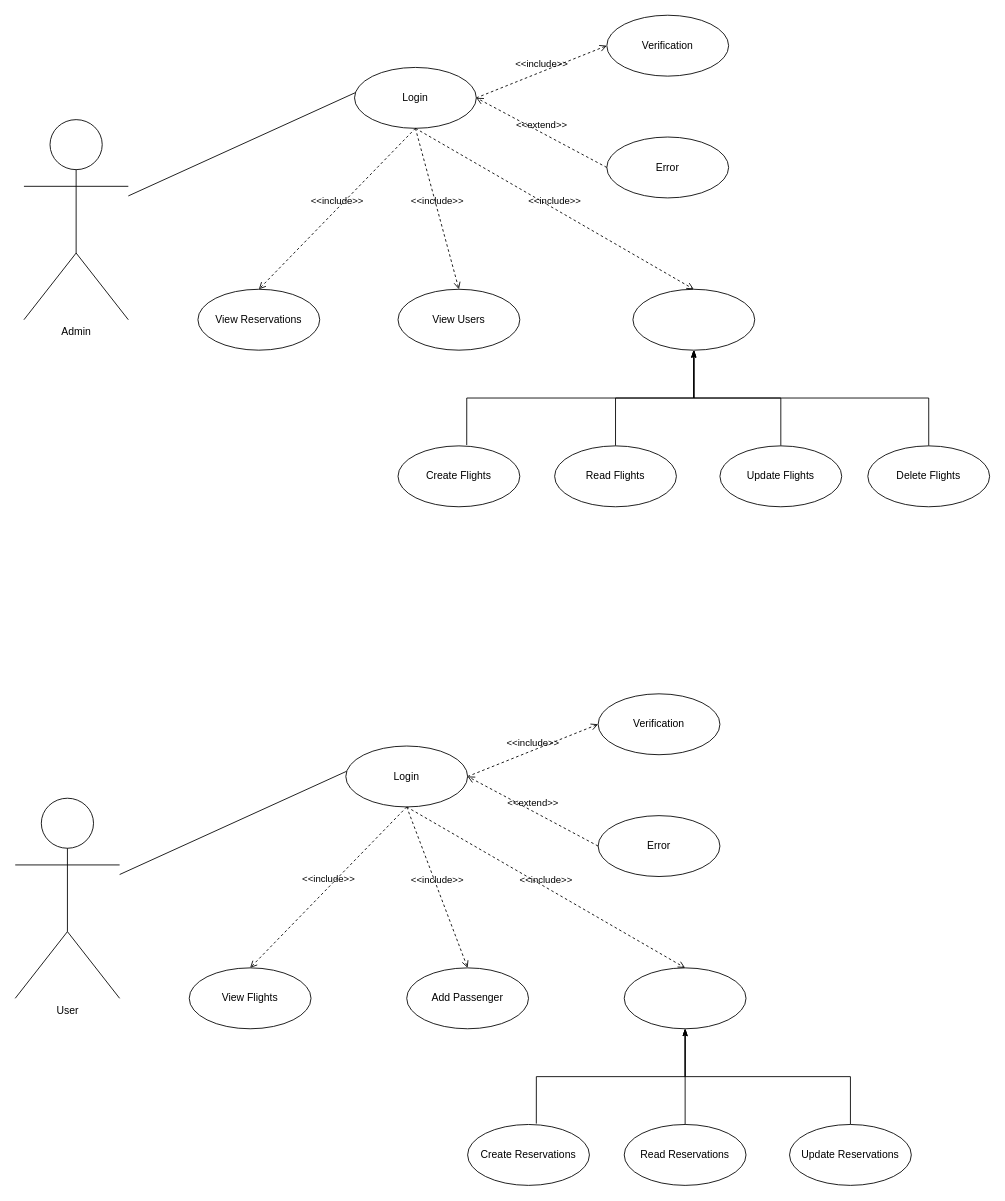
The diagram is 1005 pixels wide and 1201 high, and some of its shapes have lost their labels. Here are the shapes that lost their labels. From the top down, the centre of each, then its label:
pixel 693 319: Manage Flights
pixel 684 998: Manage Reservations
